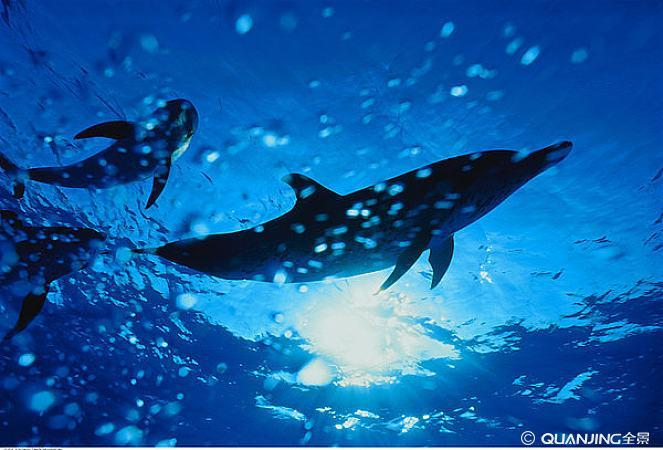fish: (89, 137, 574, 296), (4, 96, 199, 201)
